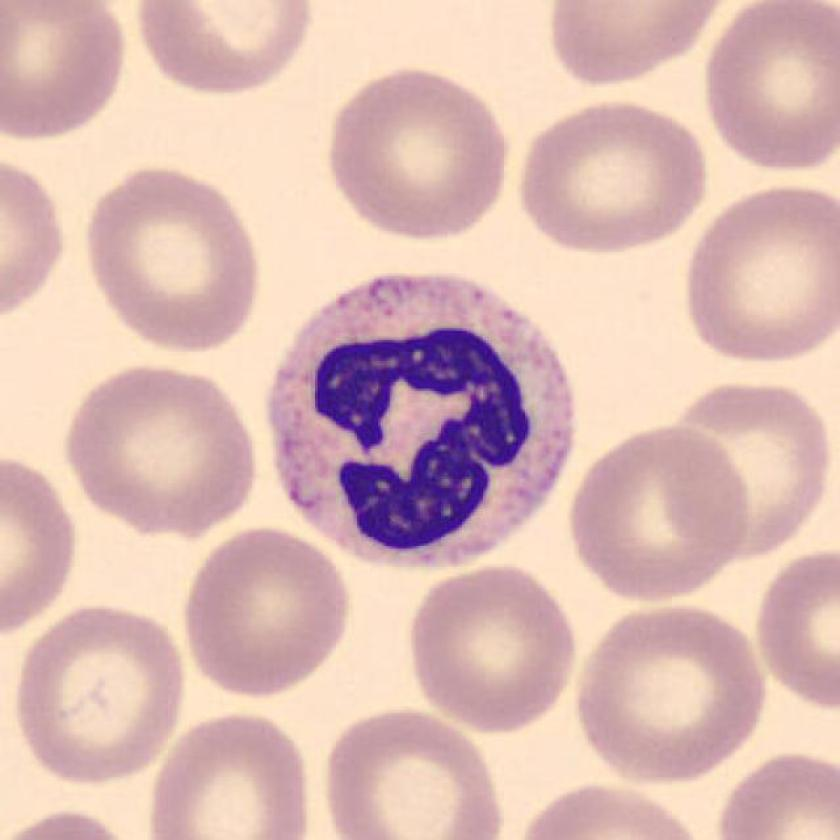neutrophil: (272, 277, 574, 568)
